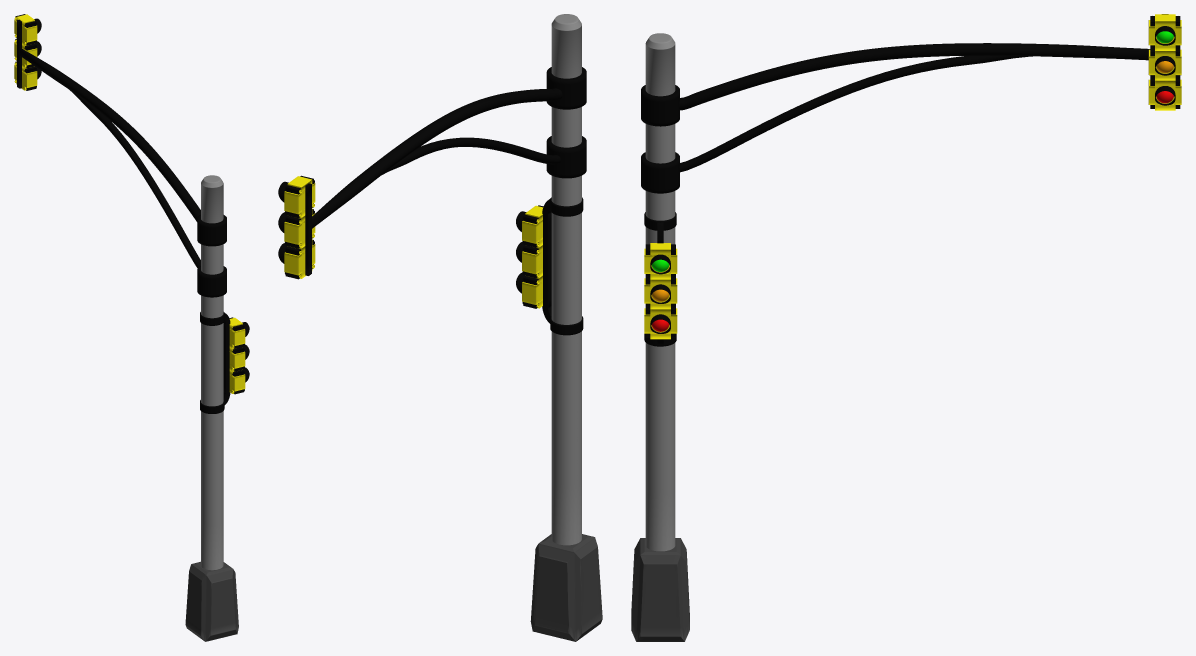
Rendered from Trafik Lambası.fbx.
3 views of the same model, side by side, from view 1: azimuth 30°, elevation 25°; view 2: azimuth 150°, elevation 25°; view 3: azimuth 270°, elevation 25° (orthographic). The views are drawn at different scales.
Parts seen in each view (by area): view 1: Trafik Lambası; view 2: Trafik Lambası; view 3: Trafik Lambası.
Boxes of the visible parts, bbox=[...] form: Trafik Lambası: bbox=[14, 14, 249, 641]; Trafik Lambası: bbox=[278, 14, 602, 641]; Trafik Lambası: bbox=[631, 14, 1181, 641].
Bounding box in the file's own units: 39.51 × 333 × 269.
